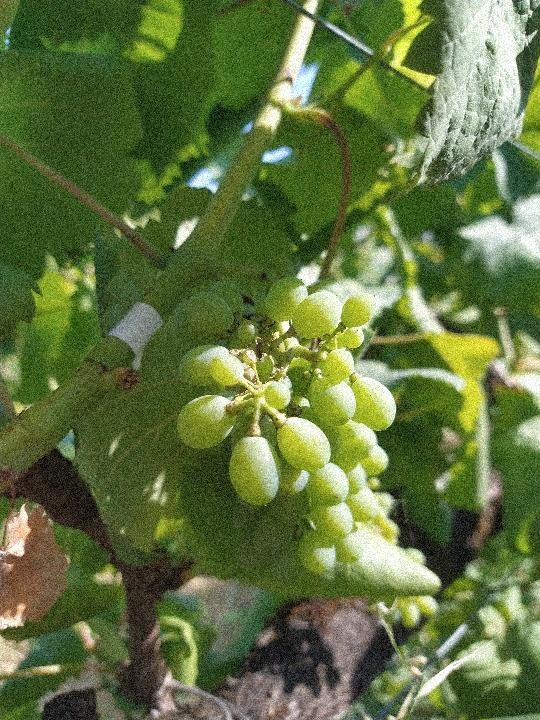grape: (165, 266, 398, 584)
